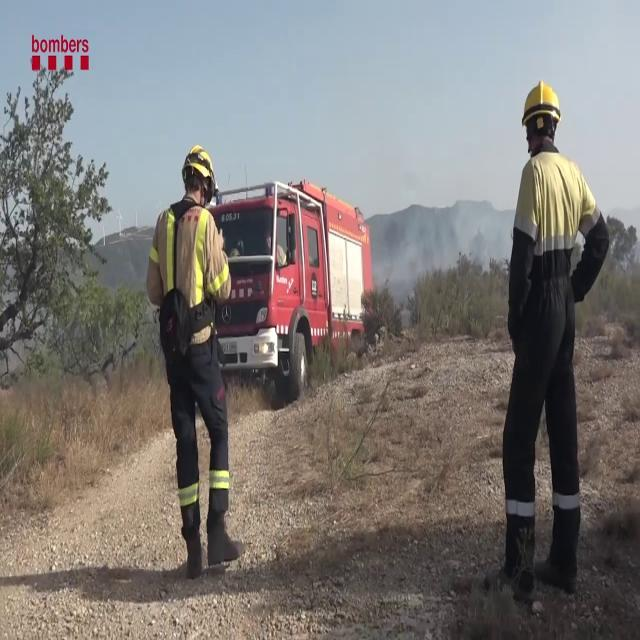Smoke: (375, 161, 470, 313)
